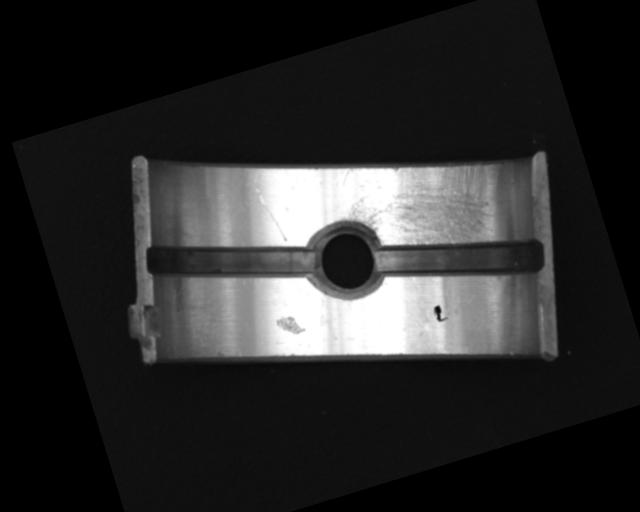blot: (431, 302, 449, 324)
bruise: (273, 310, 305, 339)
gap: (142, 203, 319, 320), (371, 200, 549, 316)
hole: (304, 214, 392, 308)
nick: (255, 185, 287, 245)
scratch: (329, 127, 521, 287)
